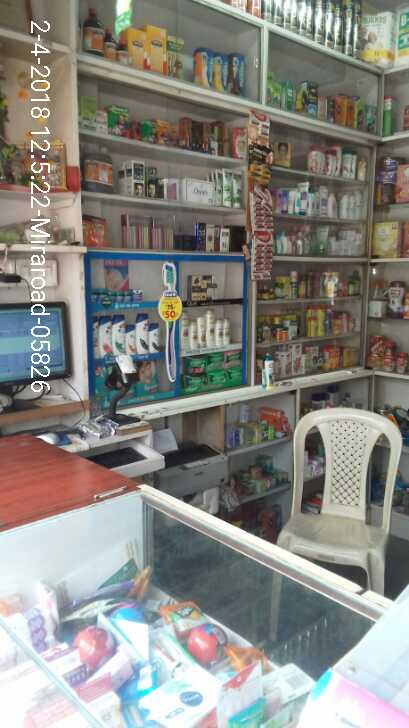vicks: (89, 280, 150, 307)
